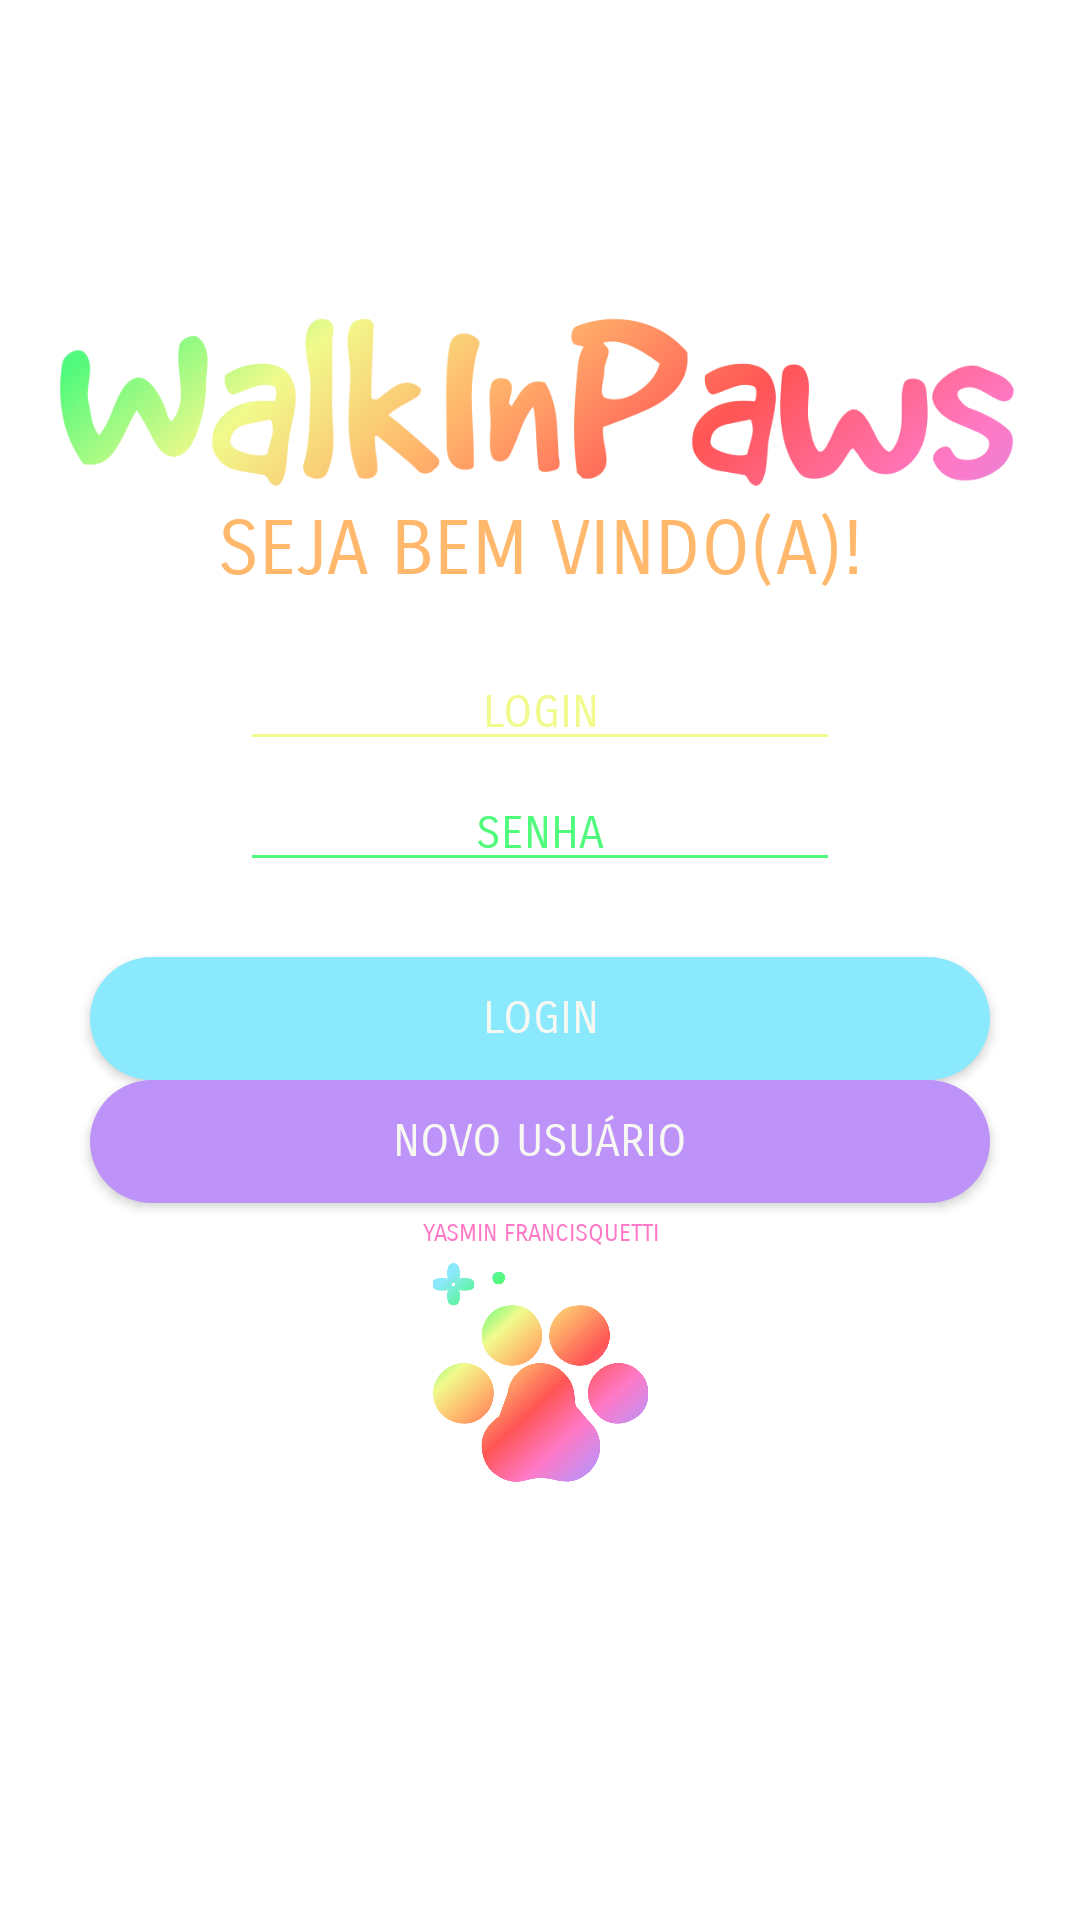

Named icons in this screenshot (1080px x 1920px) and their centers, point (x, y):
pawcolor: point (540, 1372)
